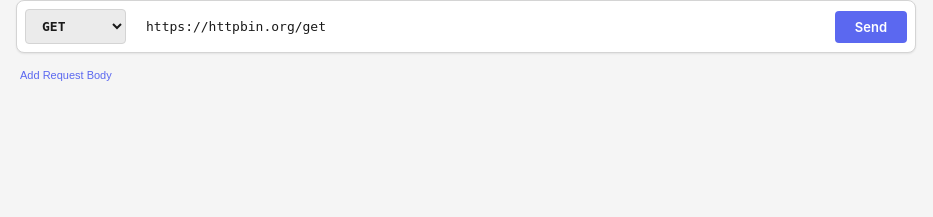
RequestBuilder component › submits request and renders response details on success
Click the button "Send": click(871, 26) [835,10,907,42]
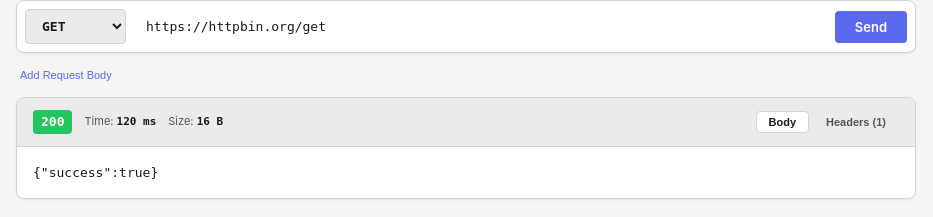
Check: the text "200" is shown, box [33,110,72,134]
Check: the text "120 ms" is shown, box [117,115,156,128]
Check: the text "16 B" is shown, box [197,115,223,128]
